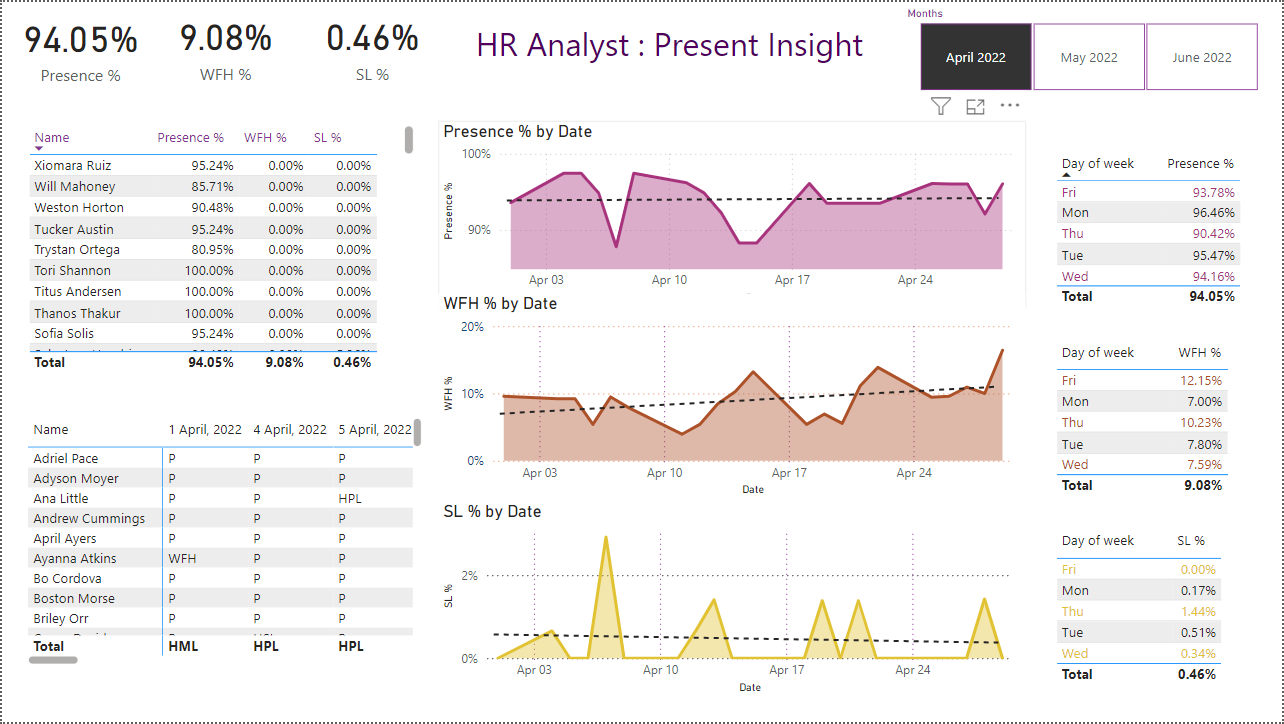

Layout of this report page (visuals, bound fields, positions):
{"tool":"powerbi","page":{"name":"Page 1","canvas":[1280,720],"ordinal":0},"visuals":[{"type":"slicer","fields":{"Values":["Final Data.Months"]},"box":[892.5,0,387.5,95],"z":0},{"type":"card","fields":{"Values":["Measure Table.Presence %"]},"box":[0,0,157.5,86.2],"z":1000},{"type":"card","fields":{"Values":["Measure Table.WFH %"]},"box":[147.5,0,152.5,86.2],"z":2000},{"type":"card","fields":{"Values":["Measure Table.SL %"]},"box":[300,0,141.2,86.2],"z":3000},{"type":"tableEx","fields":{"Values":["Final Data.Name","Measure Table.Presence %","Measure Table.WFH %","Measure Table.SL %"]},"box":[21.2,118.8,395,256.2],"z":4000},{"type":"textbox","box":[468.8,15,408.8,71.2],"z":5000},{"type":"pivotTable","fields":{"Rows":["Final Data.Name"],"Values":["Final Data.Value"],"Columns":["Final Data.Date"]},"box":[21.2,411.2,403.8,256.2],"z":6000},{"type":"areaChart","fields":{"Category":["Final Data.Date"],"Y":["Measure Table.Presence %"]},"box":[436.2,118.8,587.5,187.5],"z":7000},{"type":"areaChart","fields":{"Category":["Final Data.Date"],"Y":["Measure Table.WFH %"]},"box":[436.2,291.2,587.5,207.5],"z":8000},{"type":"areaChart","fields":{"Category":["Final Data.Date"],"Y":["Measure Table.SL %"]},"box":[436.2,498.8,587.5,197.5],"z":9000},{"type":"tableEx","fields":{"Values":["Final Data.Day of week","Measure Table.Presence %"]},"box":[1048.8,145,231.2,188.8],"z":10000},{"type":"tableEx","fields":{"Values":["Final Data.Day of week","Measure Table.WFH %"]},"box":[1048.8,333.8,231.2,188.8],"z":11000},{"type":"tableEx","fields":{"Values":["Final Data.Day of week","Measure Table.SL %"]},"box":[1048.8,522.5,231.2,188.8],"z":12000}]}

Visuals, with their boxes in screenshot pixels (x1, y1, x2, y2), scaled from the page's 1280x720 canvas onto the 1284x724 screenshot:
slicer - Final Data.Months: detection(895, 0, 1283, 96)
card - Measure Table.Presence %: detection(0, 0, 158, 87)
card - Measure Table.WFH %: detection(148, 0, 301, 87)
card - Measure Table.SL %: detection(301, 0, 443, 87)
tableEx - Final Data.Name x Measure Table.Presence %: detection(21, 119, 418, 377)
textbox: detection(470, 15, 880, 87)
pivotTable - Final Data.Name x Final Data.Value: detection(21, 413, 426, 671)
areaChart - Final Data.Date x Measure Table.Presence %: detection(438, 119, 1027, 308)
areaChart - Final Data.Date x Measure Table.WFH %: detection(438, 293, 1027, 501)
areaChart - Final Data.Date x Measure Table.SL %: detection(438, 502, 1027, 700)
tableEx - Final Data.Day of week x Measure Table.Presence %: detection(1052, 146, 1283, 336)
tableEx - Final Data.Day of week x Measure Table.WFH %: detection(1052, 336, 1283, 526)
tableEx - Final Data.Day of week x Measure Table.SL %: detection(1052, 525, 1283, 715)
